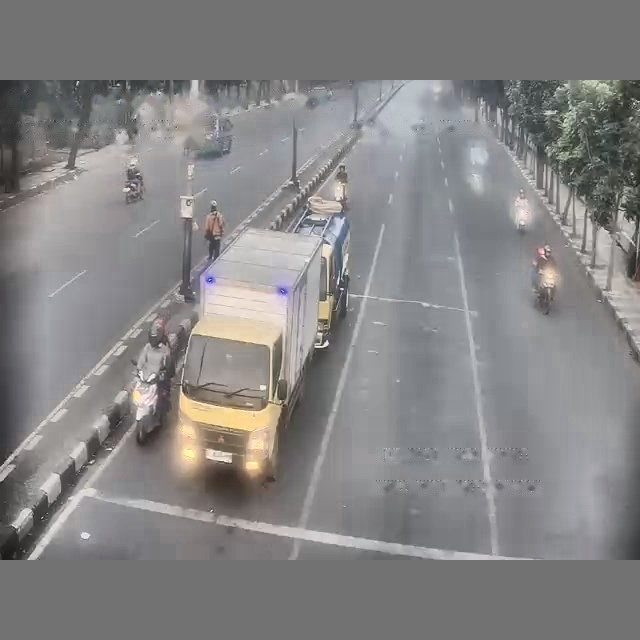Motor: (131, 361, 166, 444), (536, 267, 556, 314), (123, 180, 143, 203), (515, 206, 529, 233), (334, 181, 346, 210)
Truk: (177, 228, 321, 480), (292, 197, 350, 348)
